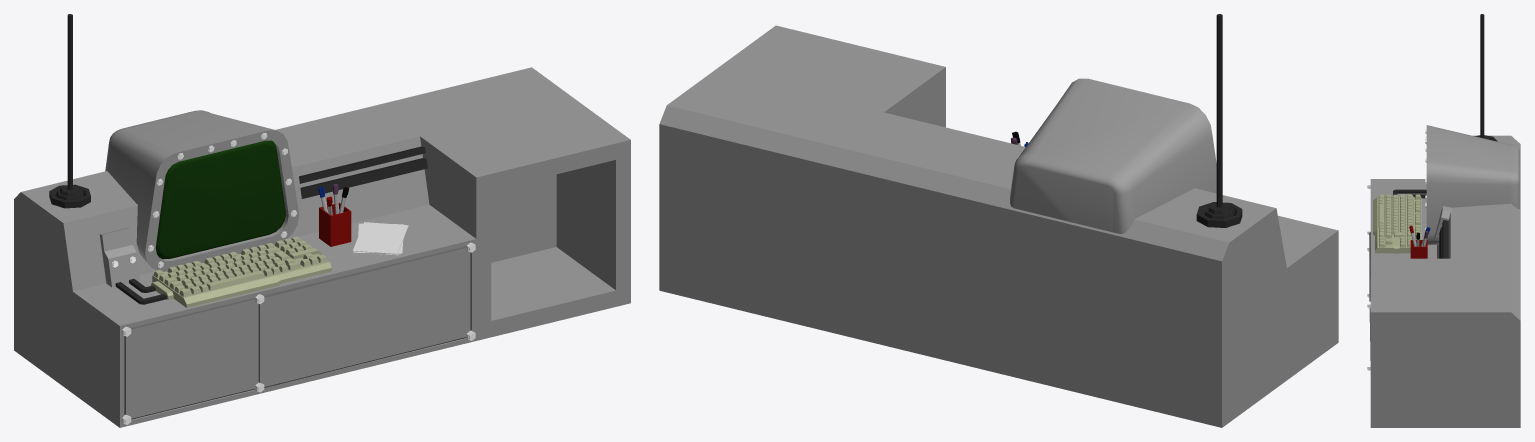
File: PCSetup.fbx
The picture shows the model from 3 angles, left to right: view 1: azimuth 30°, elevation 25°; view 2: azimuth 150°, elevation 25°; view 3: azimuth 270°, elevation 25°; orthographic projection. The views are drawn at different scales.
Parts seen in each view (by area): view 1: Setup, Vault, removable hatch, keyboard, pens, papers; view 2: Setup, Vault; view 3: Vault, Setup, keyboard, pens.
Part boxes in pixels (x1,y1,x2,y2): Setup: [14, 14, 476, 427]; Vault: [377, 67, 630, 340]; removable hatch: [124, 298, 258, 419]; keyboard: [151, 236, 331, 307]; pens: [318, 184, 351, 246]; papers: [352, 222, 408, 255]; Setup: [829, 14, 1338, 427]; Vault: [659, 25, 945, 331]; Vault: [1370, 258, 1520, 427]; Setup: [1367, 14, 1520, 370]; keyboard: [1373, 194, 1421, 253]; pens: [1409, 225, 1430, 258].
Bounding box in the file's own units: 1049 × 683 × 384.
